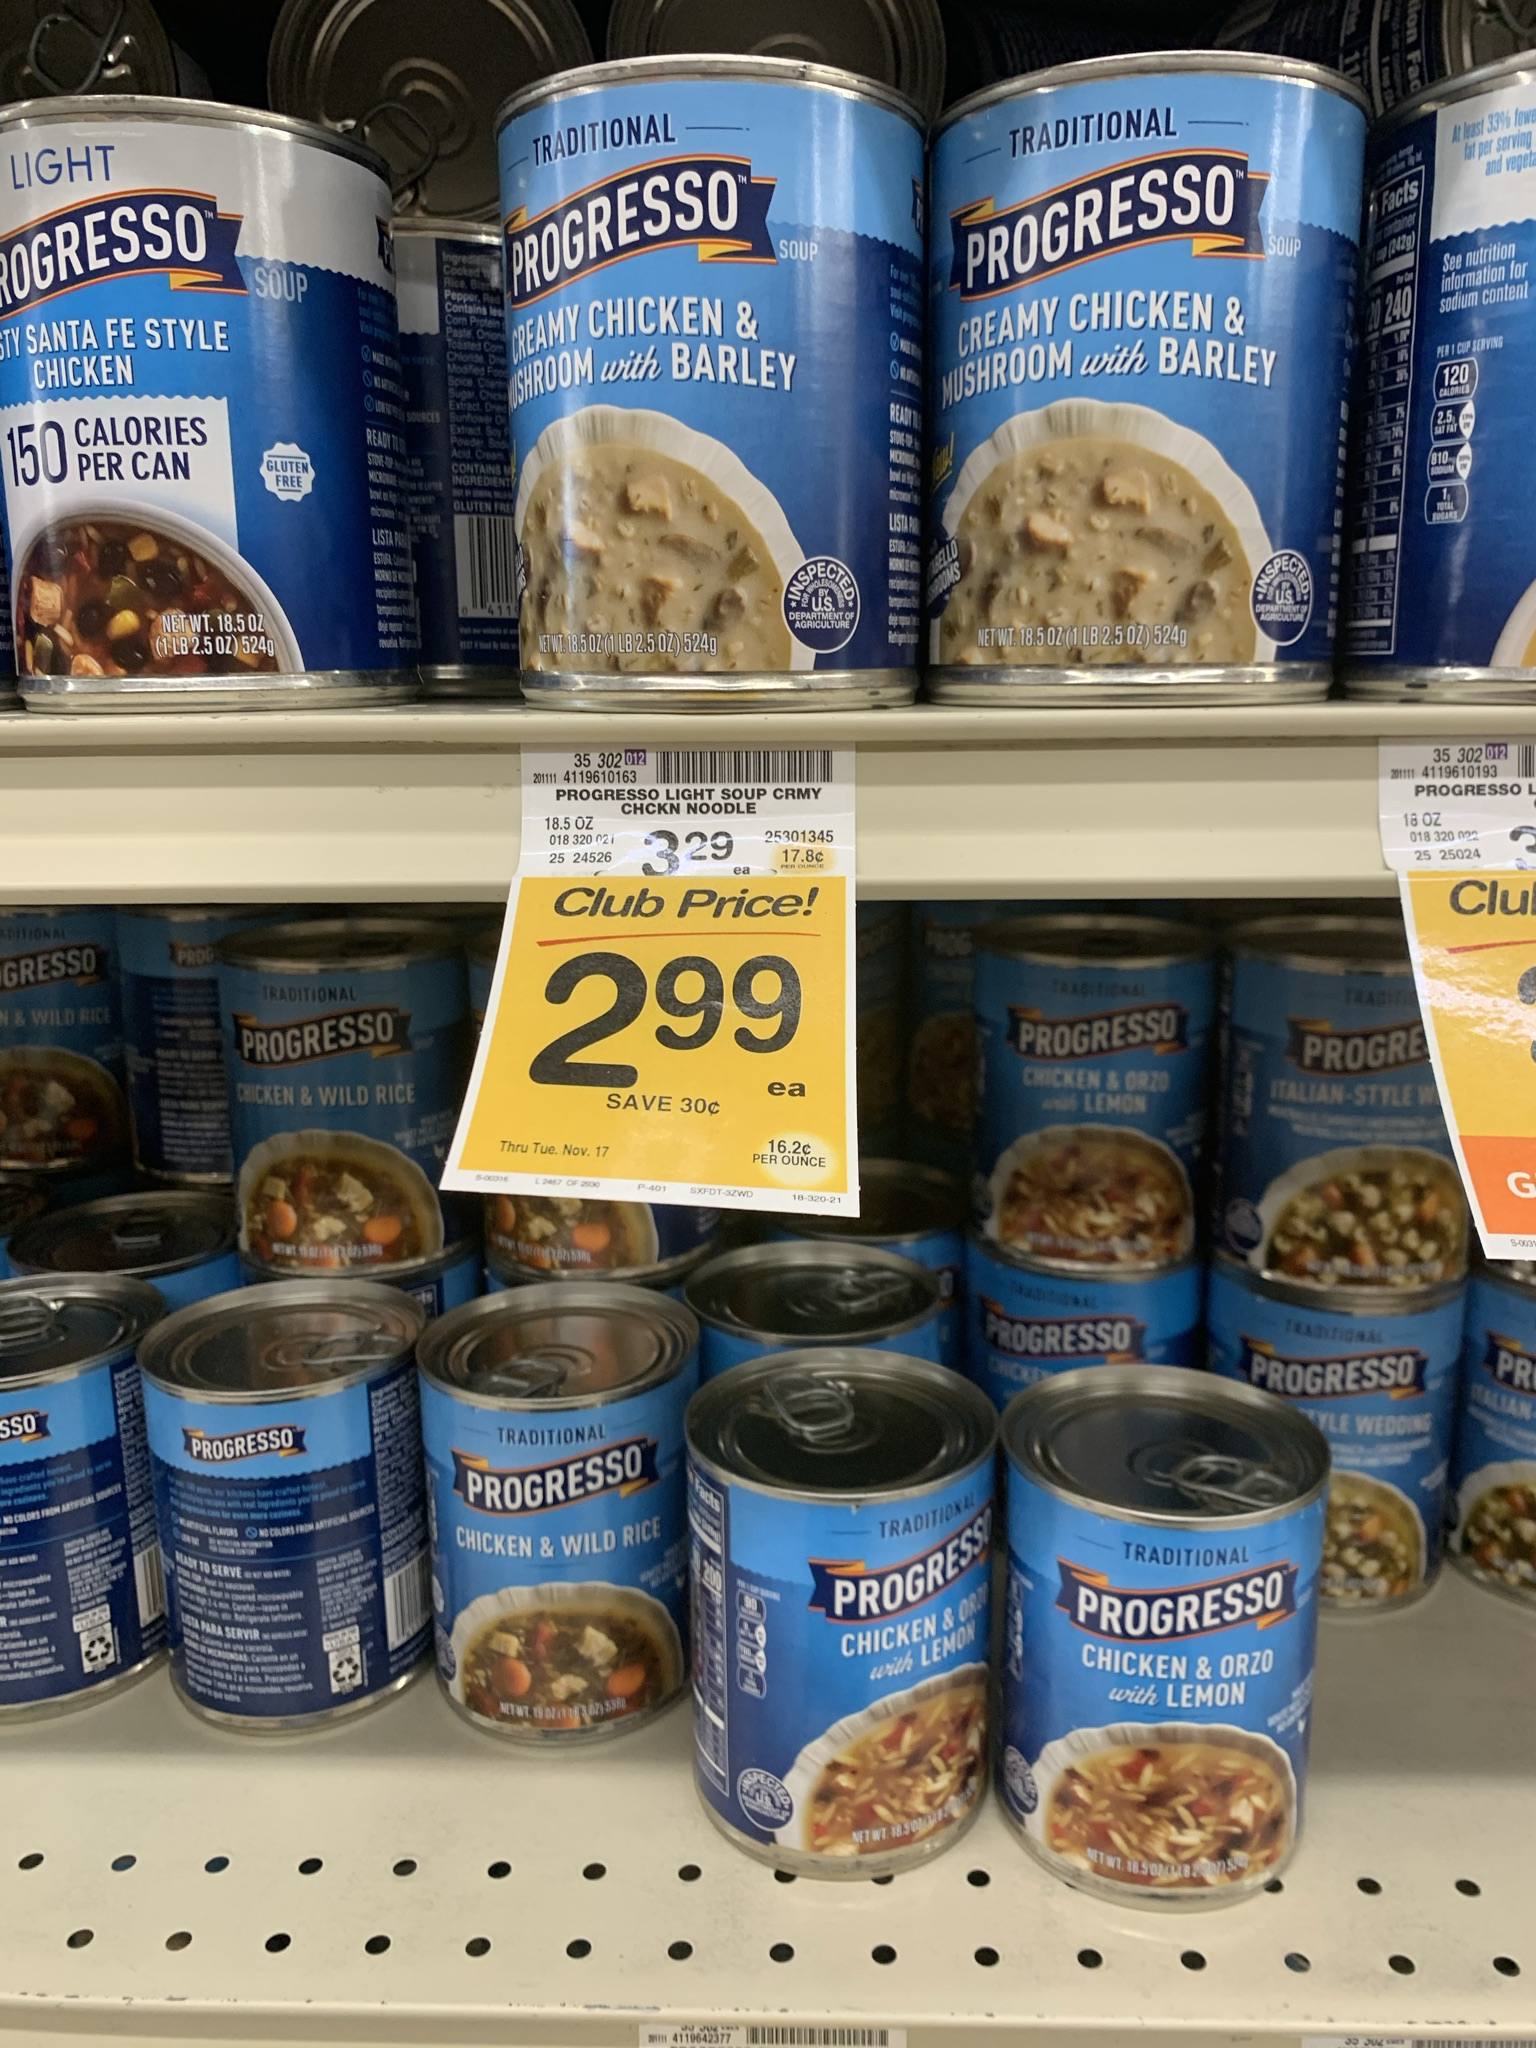can: (532, 110, 907, 700), (960, 108, 1328, 689), (11, 166, 366, 664), (1039, 1409, 1305, 1864), (720, 1397, 983, 1825), (168, 1326, 416, 1680), (453, 1347, 686, 1692), (997, 951, 1200, 1271), (236, 955, 439, 1261), (1241, 966, 1421, 1297), (2, 1359, 132, 1687), (1328, 1334, 1459, 1606), (2, 940, 118, 1155)
